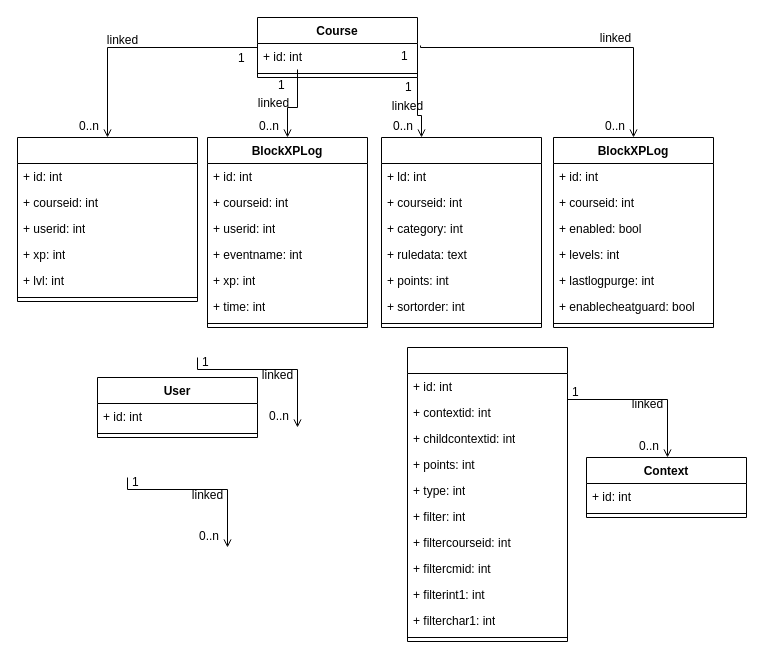
This 764x659 diagram has some shape labels left out. The shapes that lost their labels are listed below. From the top down, each one's box as (x1, y1, x2, y2) in pixels, then its label:
(16, 136, 198, 302): BlockXP
(380, 136, 542, 328): BlockXPFilters
(406, 346, 568, 642): BlockXPRule
